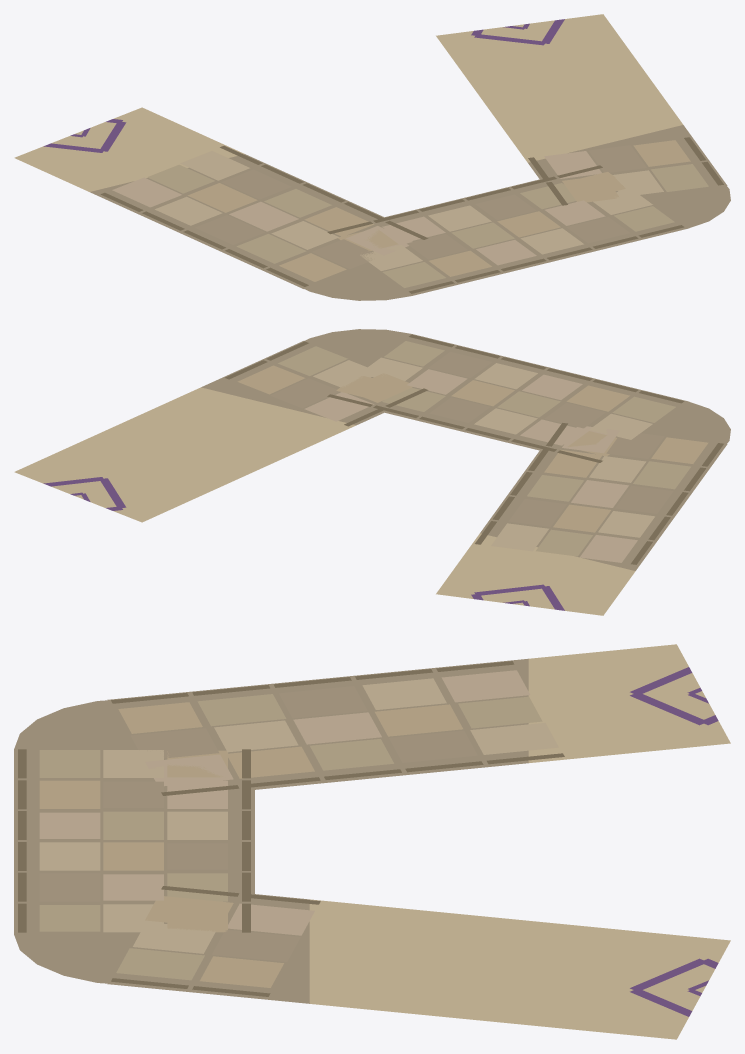
Rendered from route-temple_s-pyramid_s-walk.glb.
3 views of the same model, one above another, from view 1: azimuth 30°, elevation 25°; view 2: azimuth 150°, elevation 25°; view 3: azimuth 270°, elevation 25° (orthographic). The views are drawn at different scales.
Parts seen in each view (by area): view 1: Surveyed floor · route-temple_s-pyramid_s-walk, South Temple to South Pyramid · walking arcade / #BDAD8E, South Temple to South Pyramid · walking arcade / #C2AE8D, South Temple to South Pyramid · walking arcade / #C9B798, South Temple to South Pyramid · walking arcade / #AE9D84, South Temple to South Pyramid · walking arcade / #C7B399, South Temple to South Pyramid · walking arcade / #85775D; view 2: Surveyed floor · route-temple_s-pyramid_s-walk, South Temple to South Pyramid · walking arcade / #BDAD8E, South Temple to South Pyramid · walking arcade / #C2AE8D, South Temple to South Pyramid · walking arcade / #C9B798, South Temple to South Pyramid · walking arcade / #AE9D84, South Temple to South Pyramid · walking arcade / #C7B399, South Temple to South Pyramid · walking arcade / #85775D; view 3: Surveyed floor · route-temple_s-pyramid_s-walk, South Temple to South Pyramid · walking arcade / #BDAD8E, South Temple to South Pyramid · walking arcade / #C2AE8D, South Temple to South Pyramid · walking arcade / #C9B798, South Temple to South Pyramid · walking arcade / #AE9D84, South Temple to South Pyramid · walking arcade / #C7B399, South Temple to South Pyramid · walking arcade / #85775D.
Part boxes in pixels (x1,y1,x2,y2): Surveyed floor · route-temple_s-pyramid_s-walk: (14,14,730,300); South Temple to South Pyramid · walking arcade / #BDAD8E: (147,164,708,287); South Temple to South Pyramid · walking arcade / #C2AE8D: (187,140,690,281); South Temple to South Pyramid · walking arcade / #C9B798: (155,151,663,270); South Temple to South Pyramid · walking arcade / #AE9D84: (195,145,646,268); South Temple to South Pyramid · walking arcade / #C7B399: (112,151,605,265); South Temple to South Pyramid · walking arcade / #85775D: (100,137,723,293); Surveyed floor · route-temple_s-pyramid_s-walk: (14,329,730,615); South Temple to South Pyramid · walking arcade / #BDAD8E: (278,341,690,556); South Temple to South Pyramid · walking arcade / #C2AE8D: (237,365,708,532); South Temple to South Pyramid · walking arcade / #C9B798: (313,357,654,551); South Temple to South Pyramid · walking arcade / #AE9D84: (270,352,673,526); South Temple to South Pyramid · walking arcade / #C7B399: (304,369,637,562); South Temple to South Pyramid · walking arcade / #85775D: (225,334,723,564); Surveyed floor · route-temple_s-pyramid_s-walk: (14,644,730,1039); South Temple to South Pyramid · walking arcade / #BDAD8E: (39,694,542,980); South Temple to South Pyramid · walking arcade / #C2AE8D: (39,702,462,987); South Temple to South Pyramid · walking arcade / #C9B798: (39,678,558,953); South Temple to South Pyramid · walking arcade / #AE9D84: (39,686,477,961); South Temple to South Pyramid · walking arcade / #C7B399: (39,670,530,935); South Temple to South Pyramid · walking arcade / #85775D: (18,661,564,996).
Size of the model in its own units: 21.36 by 0.026 by 16.37.
